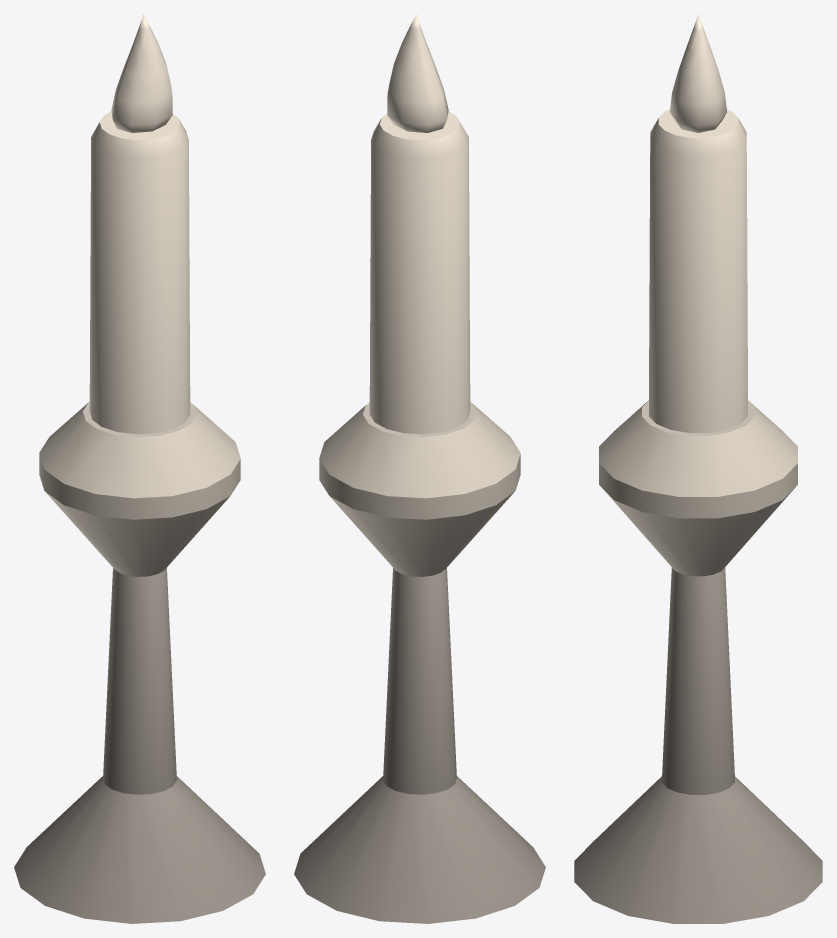
Rendered from SM_VKI_Prop_Candlestick.fbx.
3 views of the same model, side by side, from view 1: azimuth 30°, elevation 25°; view 2: azimuth 150°, elevation 25°; view 3: azimuth 270°, elevation 25° (orthographic).
Visible parts, largest first — view 1: SM_VKI_Prop_Candlestick.001; view 2: SM_VKI_Prop_Candlestick.001; view 3: SM_VKI_Prop_Candlestick.001.
Boxes of the visible parts, left/top/right/bottom form: SM_VKI_Prop_Candlestick.001: left=14, top=14, right=265, bottom=923; SM_VKI_Prop_Candlestick.001: left=294, top=14, right=545, bottom=923; SM_VKI_Prop_Candlestick.001: left=574, top=14, right=822, bottom=923.
Bounding box in the file's own units: 0.1471 × 0.561 × 0.1471.
